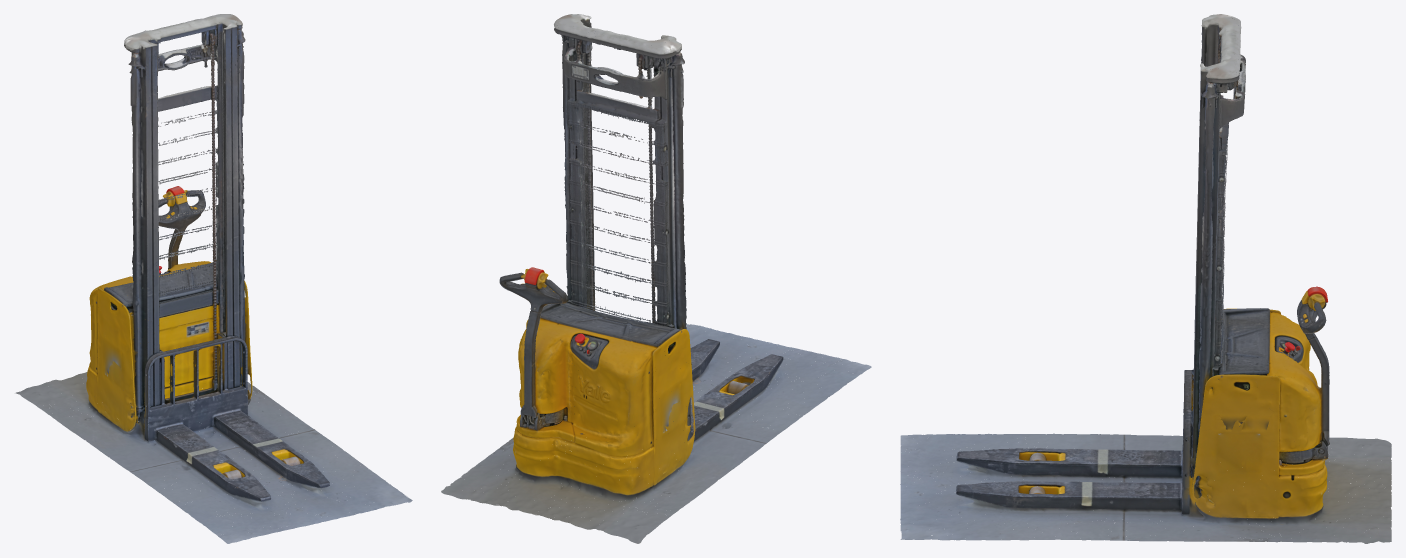
Rendered from forklift-transpallet.glb.
3 views of the same model, side by side, from view 1: azimuth 30°, elevation 25°; view 2: azimuth 150°, elevation 25°; view 3: azimuth 270°, elevation 25° (orthographic). The views are drawn at different scales.
Parts seen in each view (by area): view 1: transpallet_obj_cleaner_materialmerger_gles; view 2: transpallet_obj_cleaner_materialmerger_gles; view 3: transpallet_obj_cleaner_materialmerger_gles.
Part boxes in pixels (x1=…): transpallet_obj_cleaner_materialmerger_gles: x1=15, y1=14, x2=412, y2=543; transpallet_obj_cleaner_materialmerger_gles: x1=441, y1=14, x2=871, y2=543; transpallet_obj_cleaner_materialmerger_gles: x1=900, y1=14, x2=1391, y2=543.
Size of the model in its own units: 1.44 by 3 by 2.9.
Materials: 1 (1 with a texture image).
